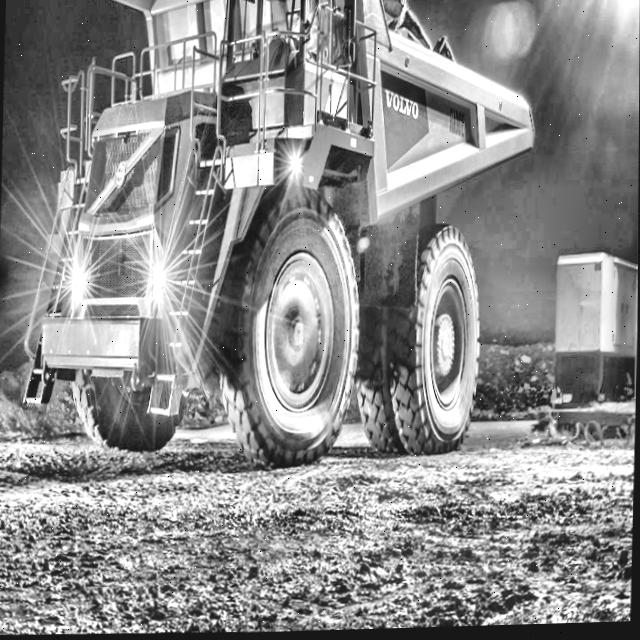dump_truck: (21, 0, 547, 489)
